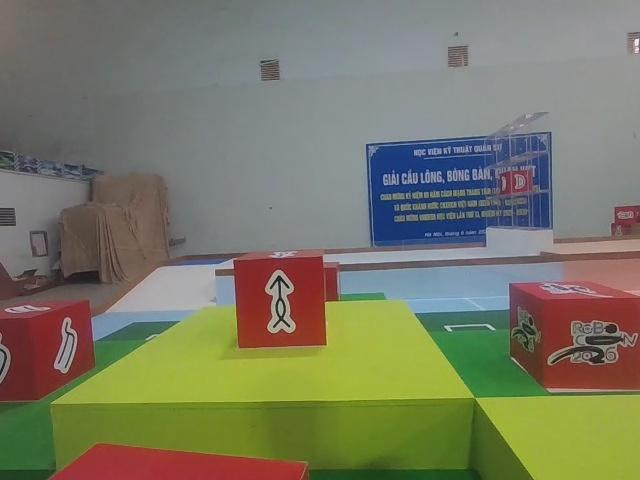R1: (507, 278, 640, 389)
R2 Real: (0, 294, 98, 404), (233, 249, 329, 350)
